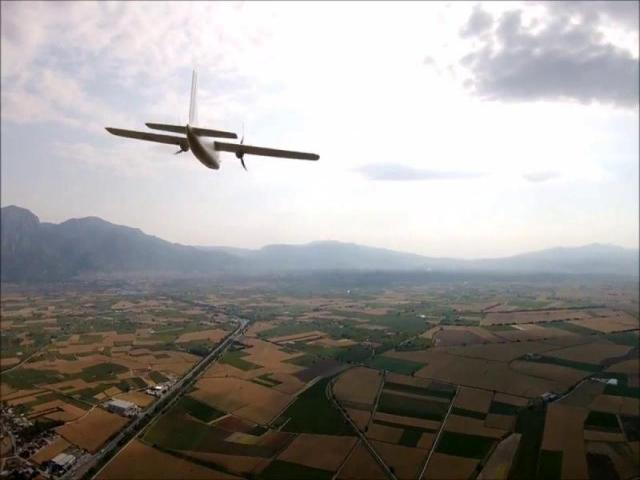hedef: (106, 67, 324, 194)
